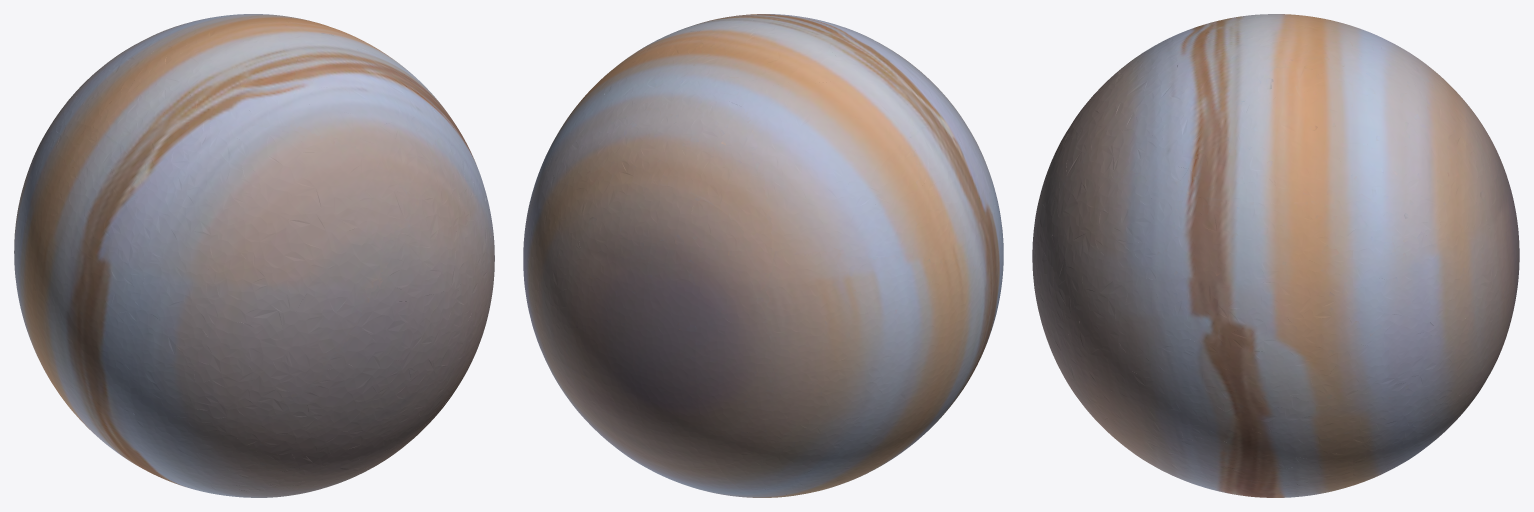
File: planet_21.glb
3 views of the same model, side by side, from view 1: azimuth 30°, elevation 25°; view 2: azimuth 150°, elevation 25°; view 3: azimuth 270°, elevation 25° (orthographic).
Visible parts, largest first — view 1: geometry_0; view 2: geometry_0; view 3: geometry_0.
Boxes of the visible parts, x1,y1,x2,y2 form: geometry_0: [14, 14, 494, 497]; geometry_0: [523, 14, 1003, 497]; geometry_0: [1032, 14, 1519, 497].
Size of the model in its own units: 0.2438 by 0.2472 by 0.2481.
Materials: 1 (1 with a texture image).
